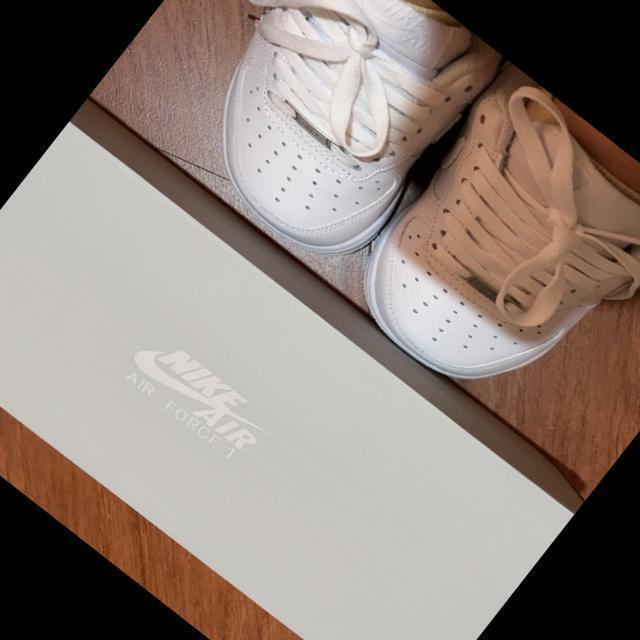nike original air force: (321, 59, 640, 457), (139, 0, 522, 290)
